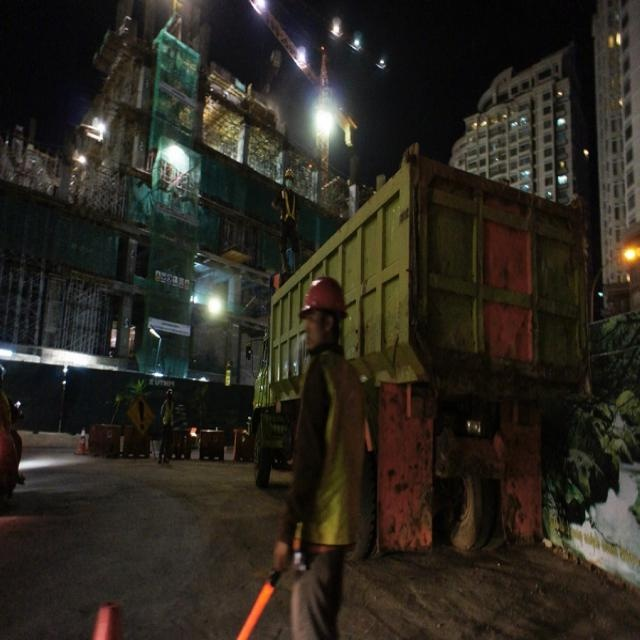Con_Casco: (300, 275, 349, 355)
